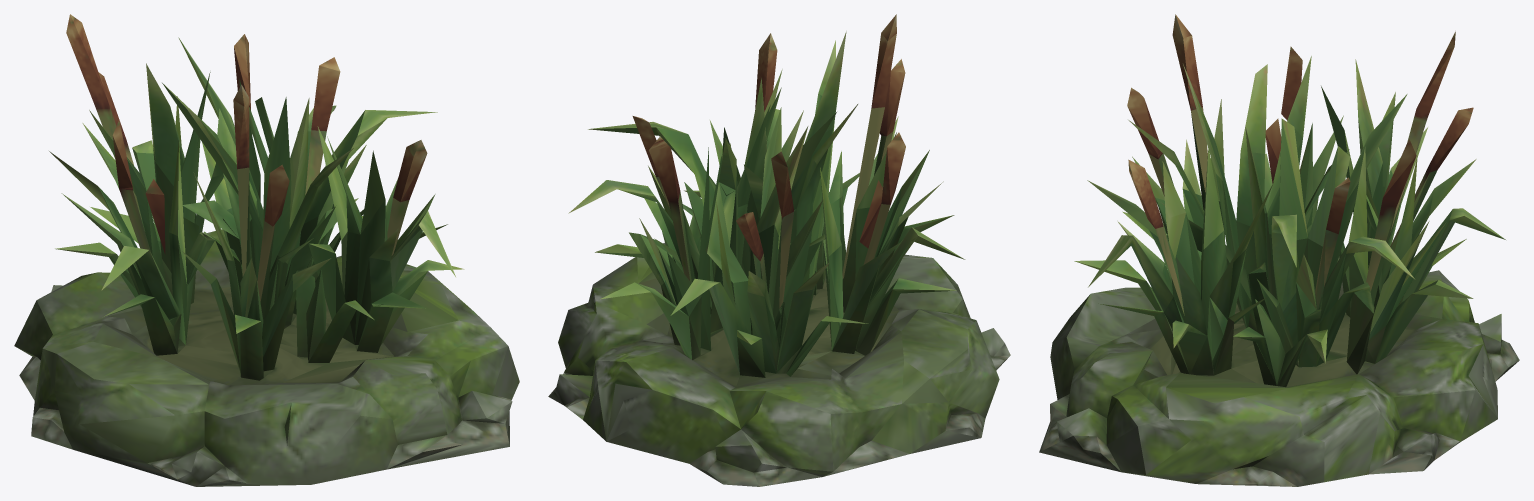
3 views of the same model, side by side, from view 1: azimuth 30°, elevation 25°; view 2: azimuth 150°, elevation 25°; view 3: azimuth 270°, elevation 25° (orthographic). The views are drawn at different scales.
Parts seen in each view (by area): view 1: reeds; view 2: reeds; view 3: reeds.
Boxes of the visible parts, x1,y1,x2,y2 form: reeds: (14,14,519,486); reeds: (548,14,1010,486); reeds: (1039,14,1519,486).
Size of the model in its own units: 0.981 by 0.787 by 0.9828.
1 material, 1 textured.
